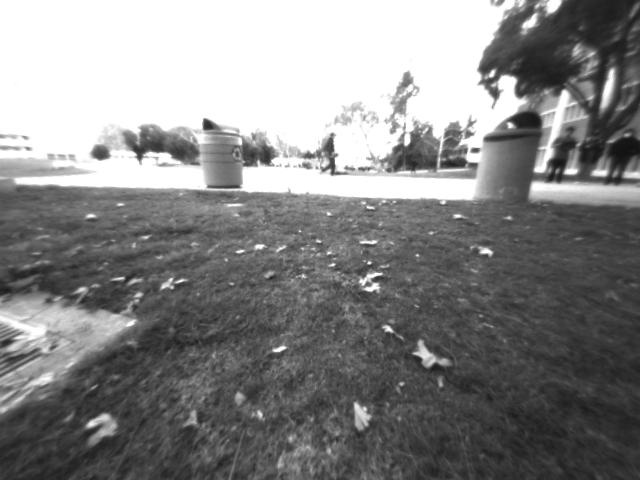trashcan: (471, 104, 548, 214)
